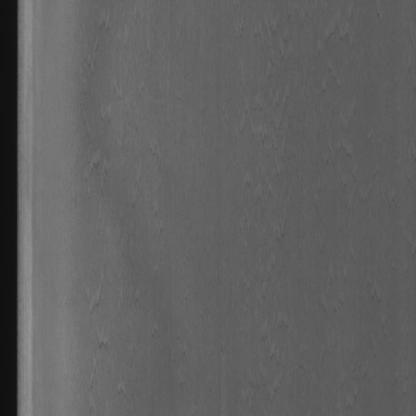silk_spot: (71, 22, 306, 352)
